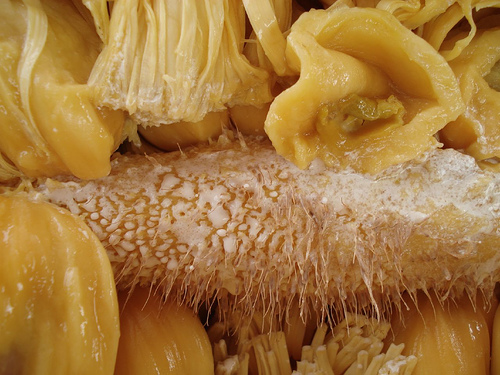jackfruit: (0, 0, 499, 374), (0, 196, 119, 374)
